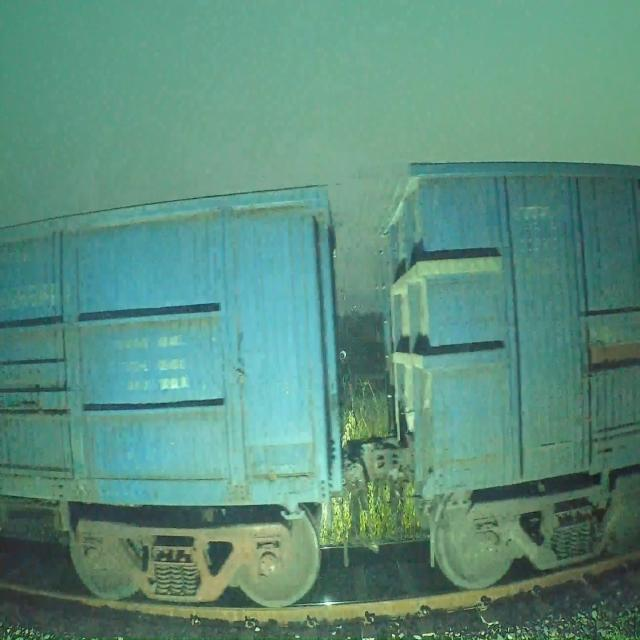WAgon-uic: (0, 182, 345, 604), (376, 160, 640, 593)
uic: (2, 282, 60, 311)
